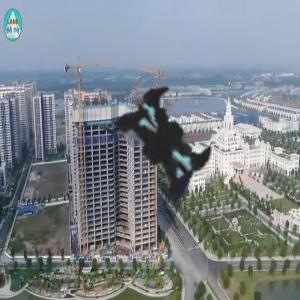drone: (22, 15, 293, 286)
